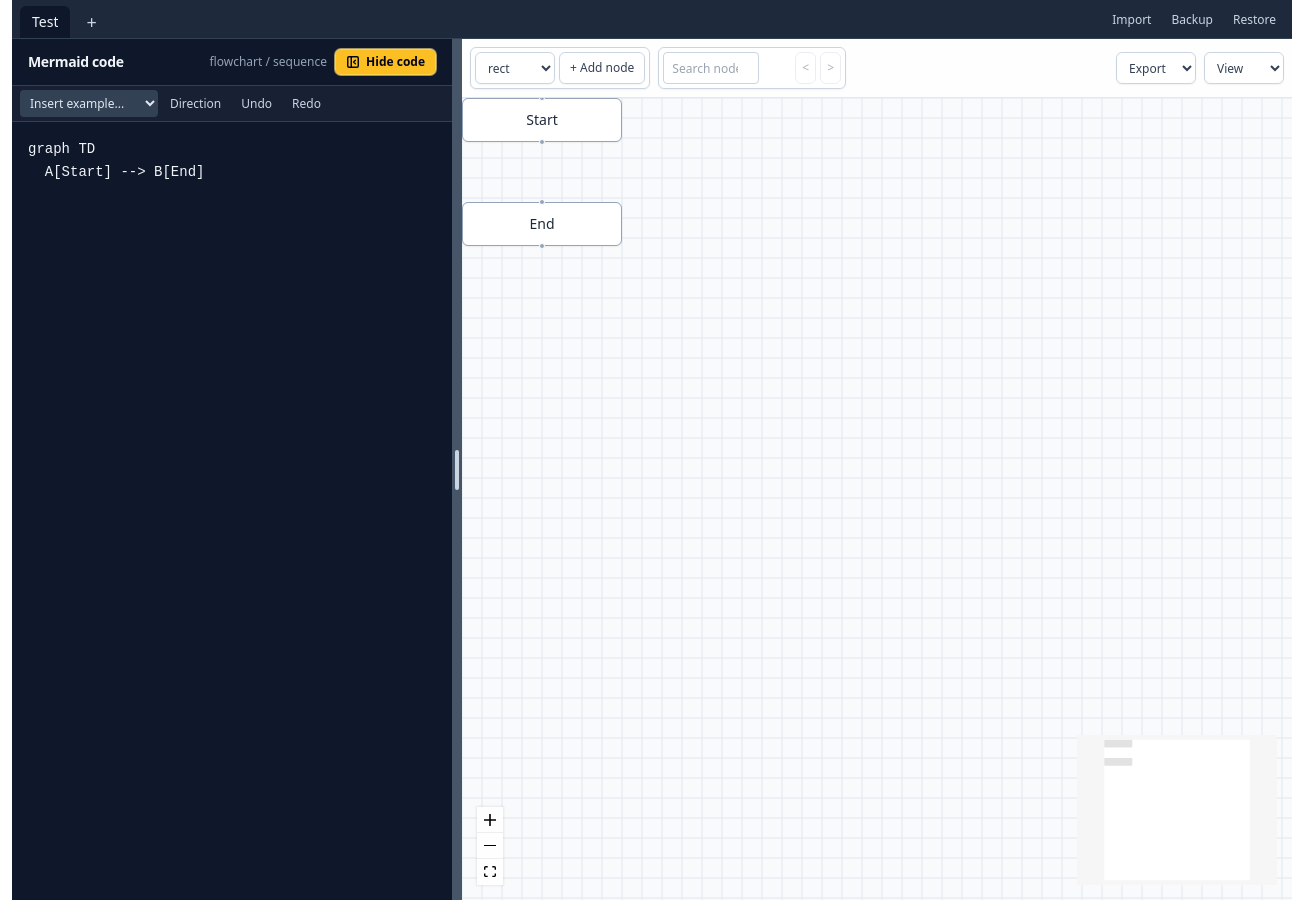
Test case: MermaidVisualEditor: node label editing › keeps flowchart and sequence toolbar controls on one compact row
Expected: the text "Start" is shown, x1=462 y1=98 x2=622 y2=142
Expected: the dropdown named "Node shape" is shown, x1=475 y1=52 x2=555 y2=84
Select "Sequence diagram" in the dropdown named "Insert example template": coordinates (89, 104) x1=20 y1=90 x2=158 y2=117
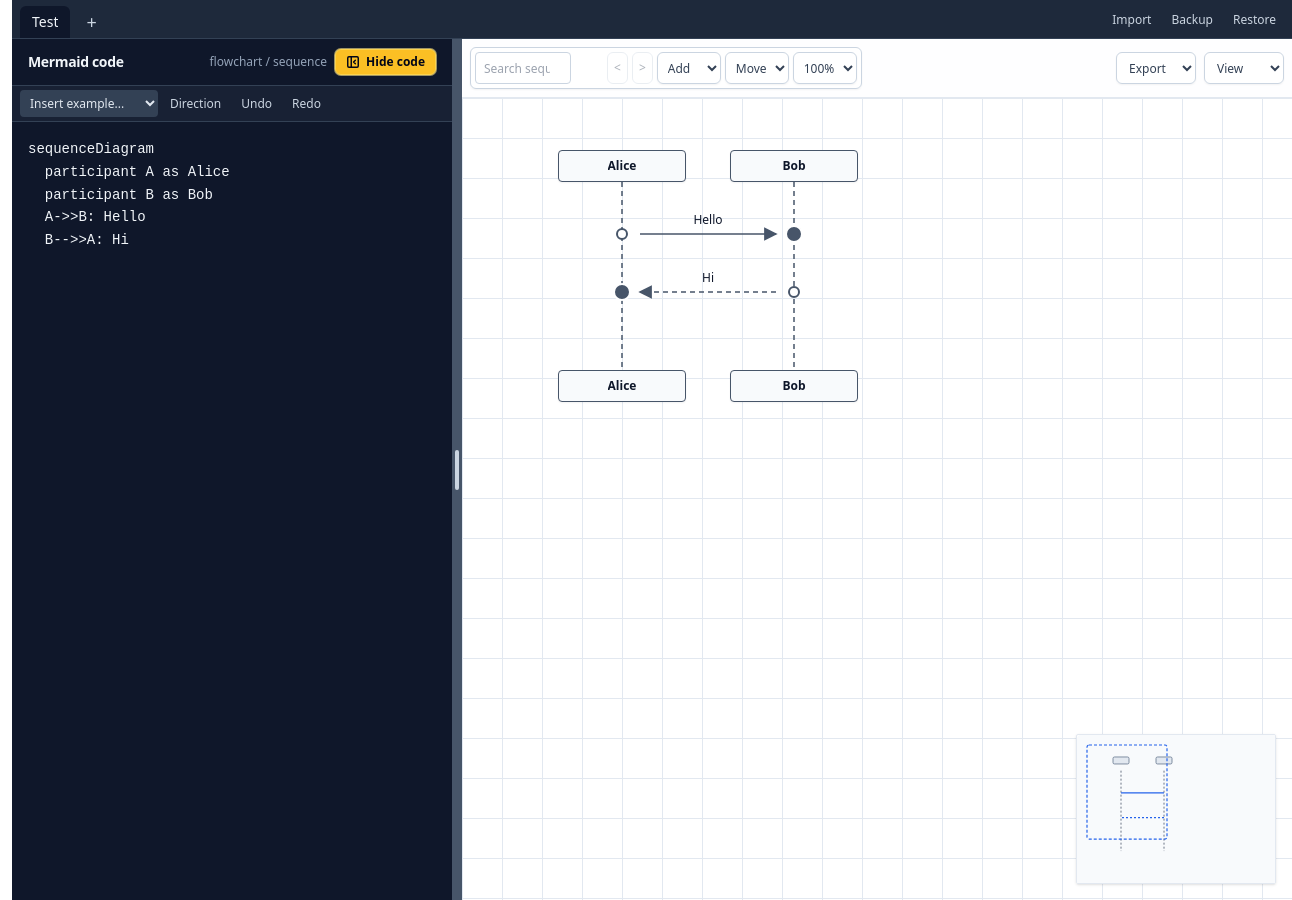
Result: the element with test id "sequence-diagram-surface" is shown at x1=486 y1=122 x2=1206 y2=426
Result: the dropdown named "Add sequence item" is shown at x1=657 y1=52 x2=721 y2=84
Result: the dropdown named "Move participant" is shown at x1=725 y1=52 x2=789 y2=84
